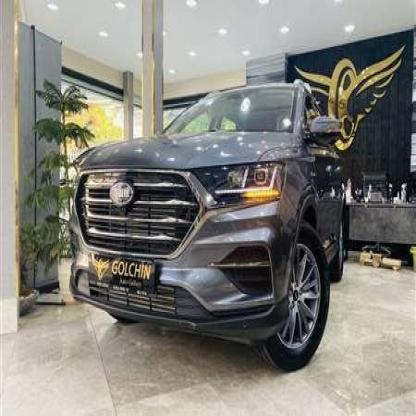Car: (66, 68, 345, 377)
